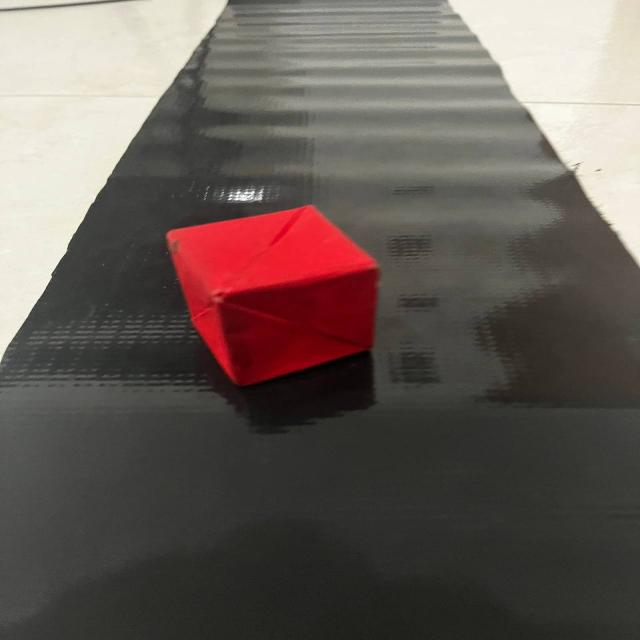Rojo: (147, 188, 401, 398)
